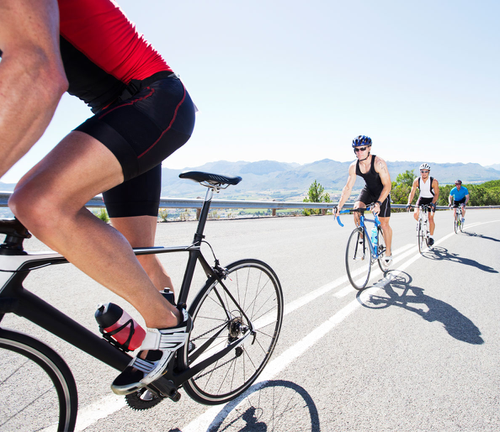bikerider: (3, 2, 290, 427), (323, 121, 401, 304), (400, 159, 444, 256), (443, 174, 473, 238)
